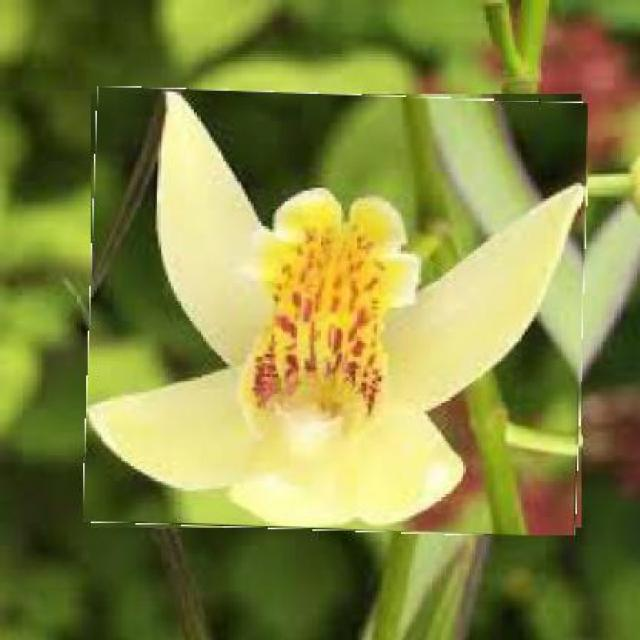Flower: (87, 90, 587, 533)
